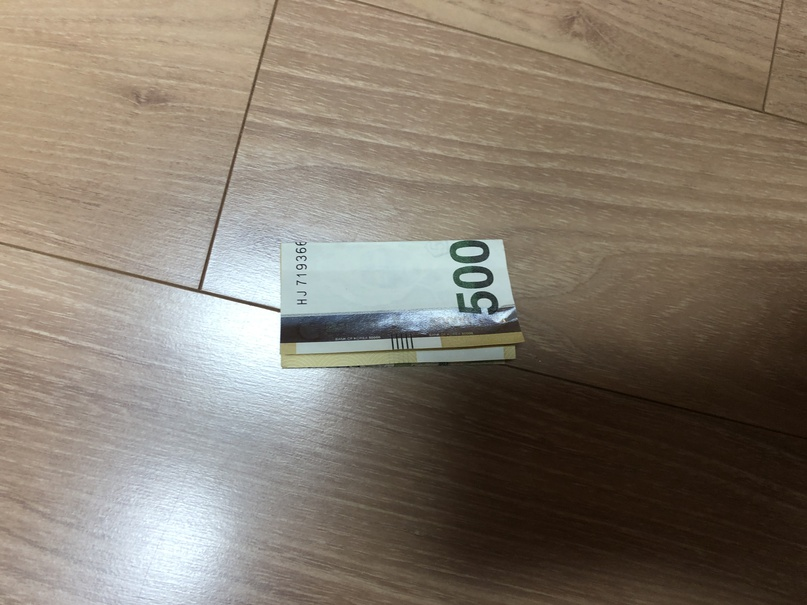50000won: (280, 238, 526, 368)
